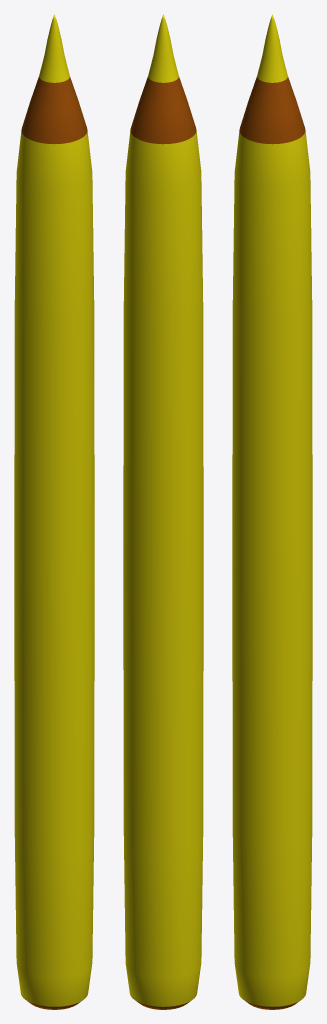
File: pencil.fbx
3 renders of one model, left to right at view 1: azimuth 90°, elevation 25°; view 2: azimuth 150°, elevation 25°; view 3: azimuth 270°, elevation 25°, orthographic.
Parts seen in each view (by area): view 1: Цилиндр; view 2: Цилиндр; view 3: Цилиндр.
Part boxes in pixels (<box>): Цилиндр: <box>14,14,94,1009</box>; Цилиндр: <box>123,14,203,1009</box>; Цилиндр: <box>232,14,312,1009</box>.
Bounding box in the file's own units: 2.08 × 28.06 × 2.08.
